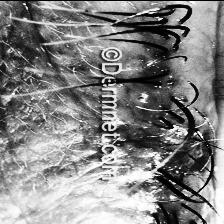Potentially Malignant Skin Tumors: (125, 118, 211, 192)
